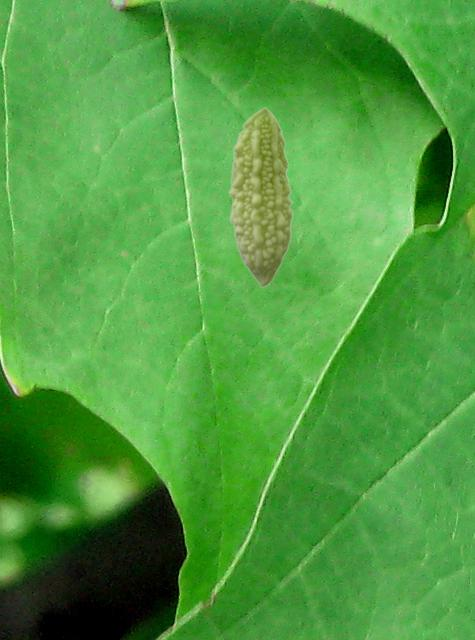ampalaya: (228, 107, 293, 288)
